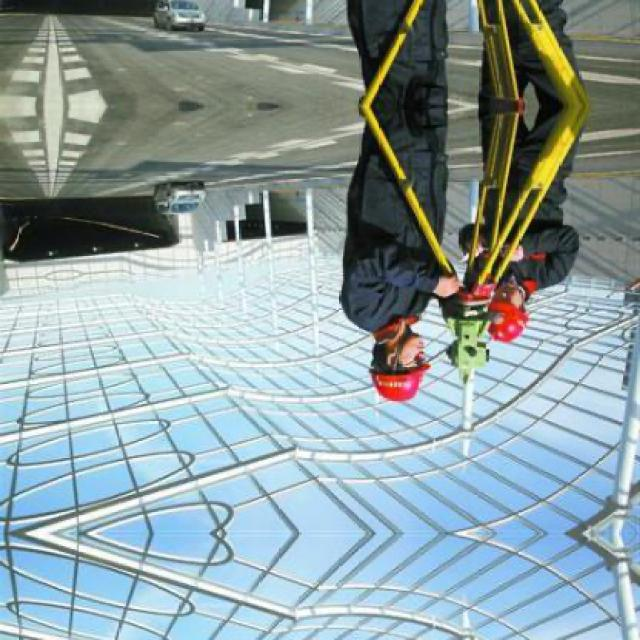con casco: (333, 304, 443, 408), (476, 277, 556, 356)
